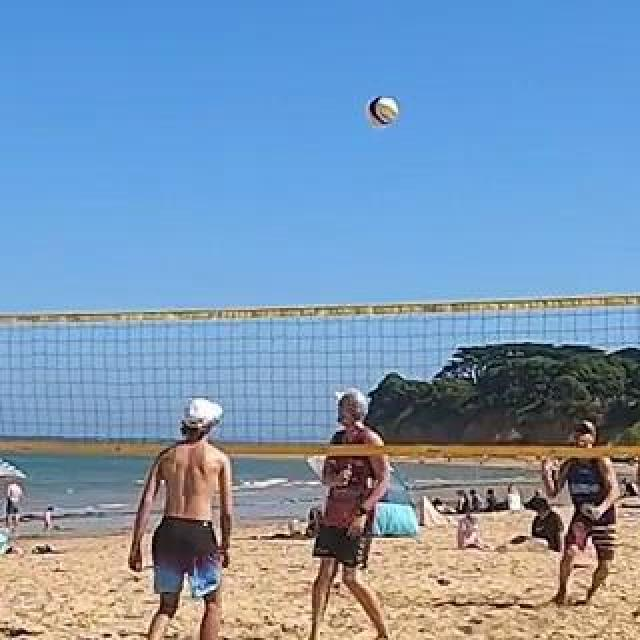volleyball: (367, 96, 399, 126)
